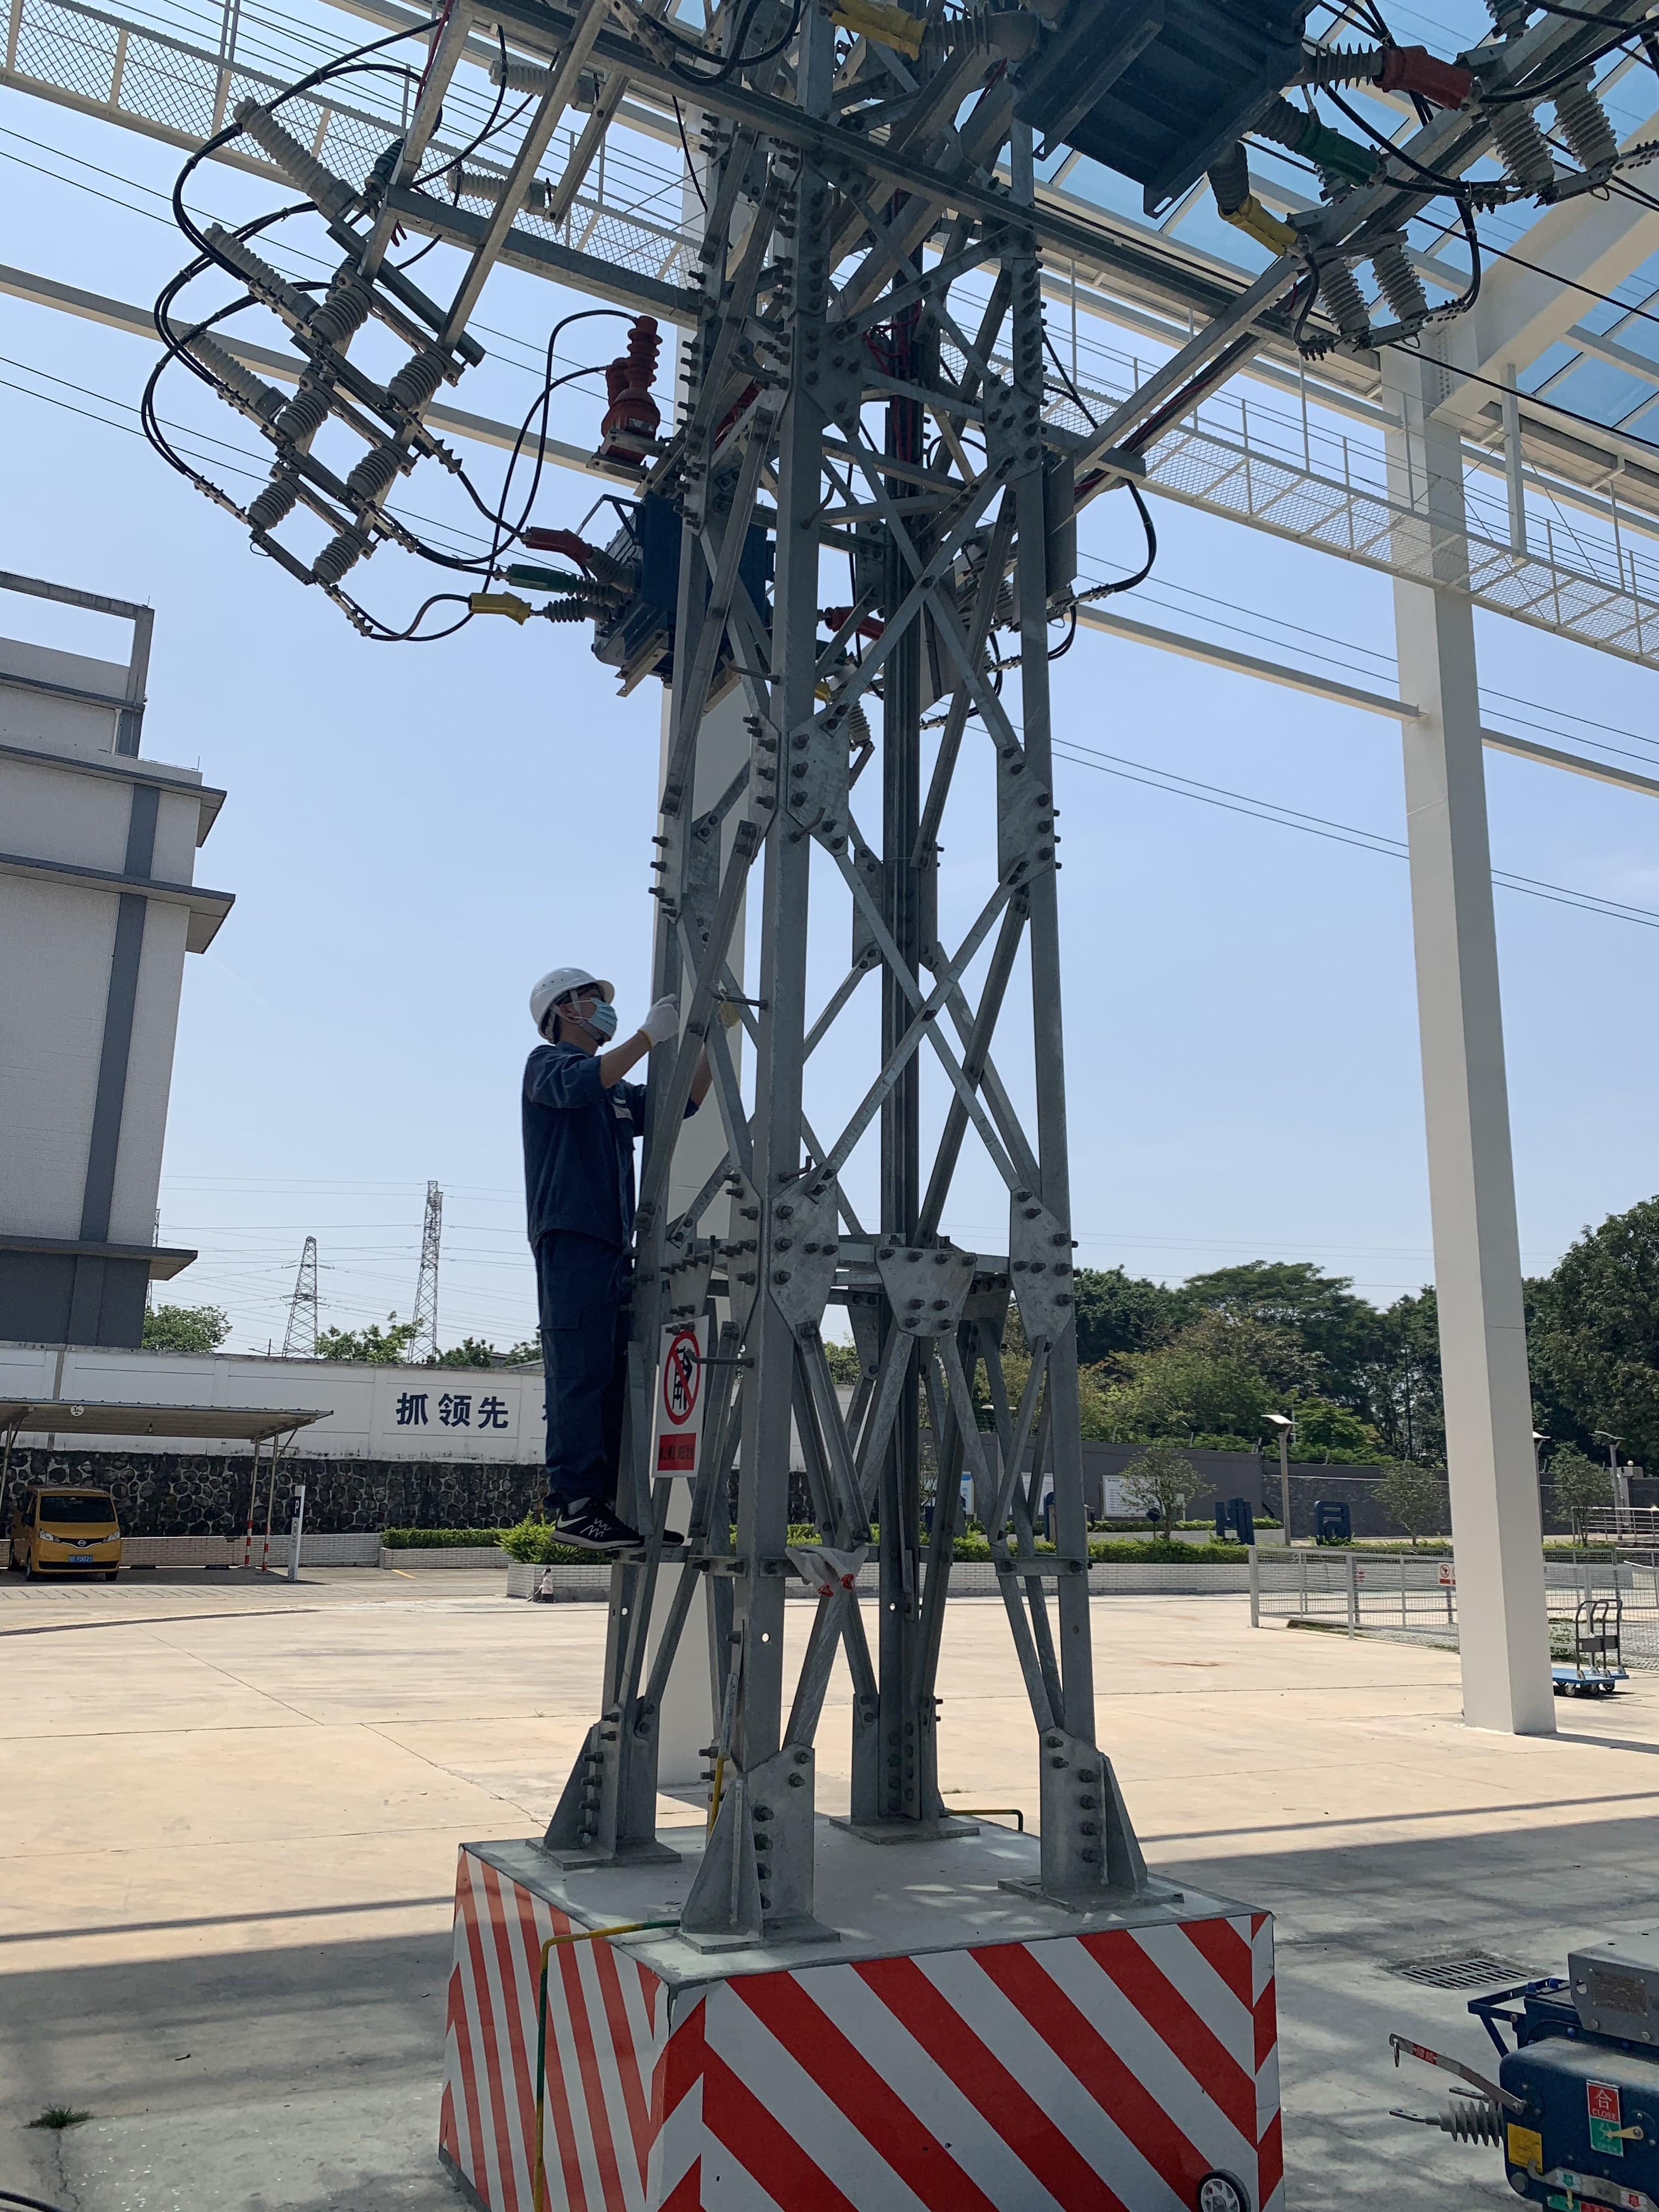downsuit: (530, 1240, 640, 1500)
upsuit: (519, 1040, 641, 1230)
wrongtop: (584, 1028, 660, 1096)
